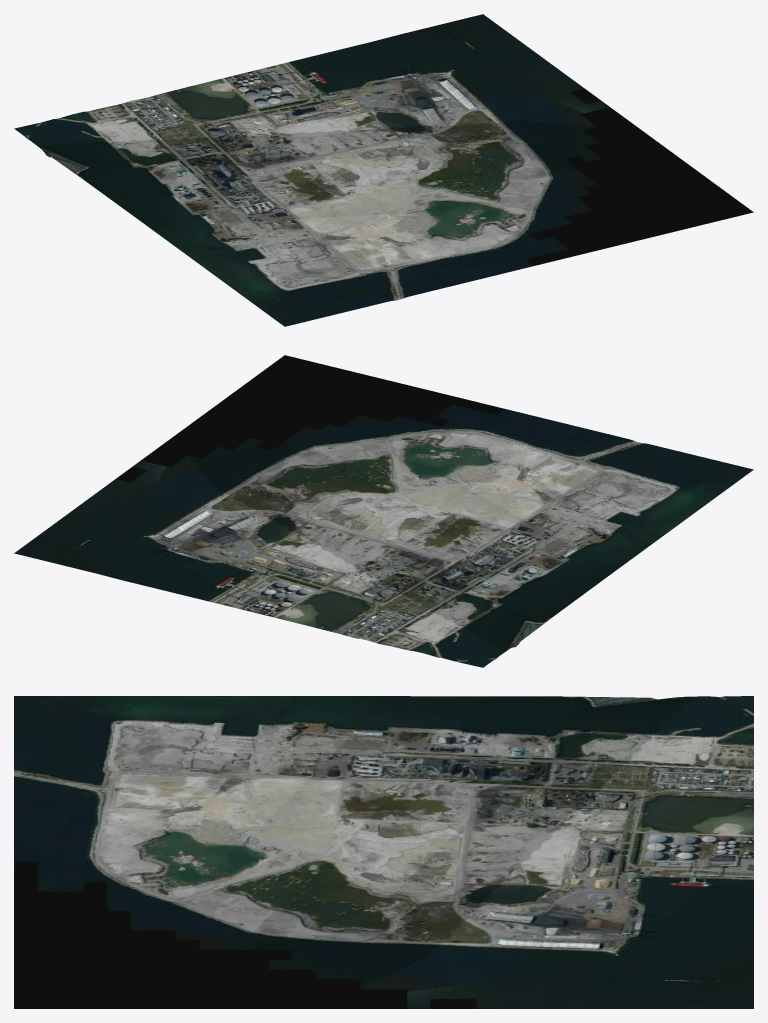
The model's file is map_10_252_425.dae.
The picture shows the model from 3 angles, top to bottom: view 1: azimuth 30°, elevation 25°; view 2: azimuth 150°, elevation 25°; view 3: azimuth 270°, elevation 25°; orthographic projection. The views are drawn at different scales.
Visible parts, largest first — view 1: Ter0; view 2: Ter0; view 3: Ter0.
Part boxes in pixels (x1,y1,x2,y2): Ter0: (14, 14, 753, 326); Ter0: (14, 355, 753, 667); Ter0: (14, 696, 753, 1008).
Size of the model in its own units: 2044 by 2044 by 38.5.
1 material, 1 textured.
